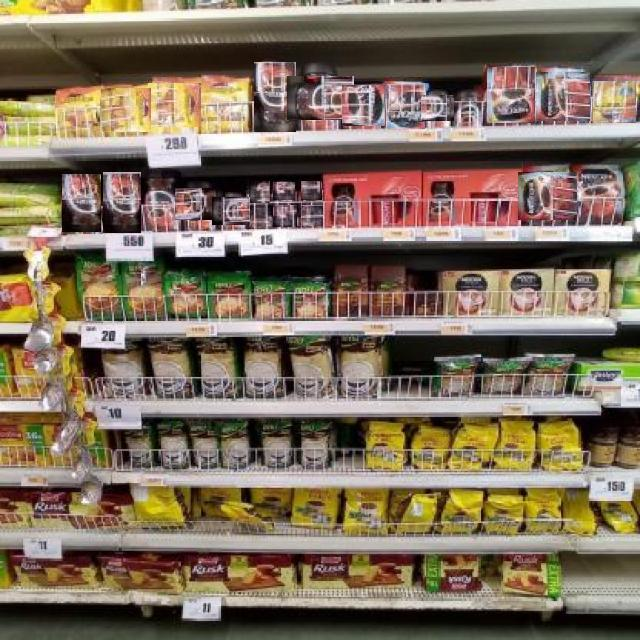Coffee: (253, 61, 296, 132), (288, 76, 354, 120), (575, 165, 624, 224), (518, 171, 577, 220), (487, 66, 535, 123), (536, 71, 590, 121), (200, 77, 248, 132), (102, 172, 141, 233), (147, 83, 201, 127), (61, 173, 101, 232), (56, 87, 101, 138), (100, 88, 151, 132), (143, 172, 180, 231), (592, 80, 636, 123), (386, 83, 425, 129), (342, 86, 385, 126), (174, 188, 225, 220), (212, 197, 250, 225), (454, 91, 483, 126), (420, 96, 457, 121), (250, 206, 273, 229), (273, 205, 297, 227), (249, 180, 270, 203), (300, 180, 322, 200), (301, 206, 323, 226), (273, 181, 295, 200)
